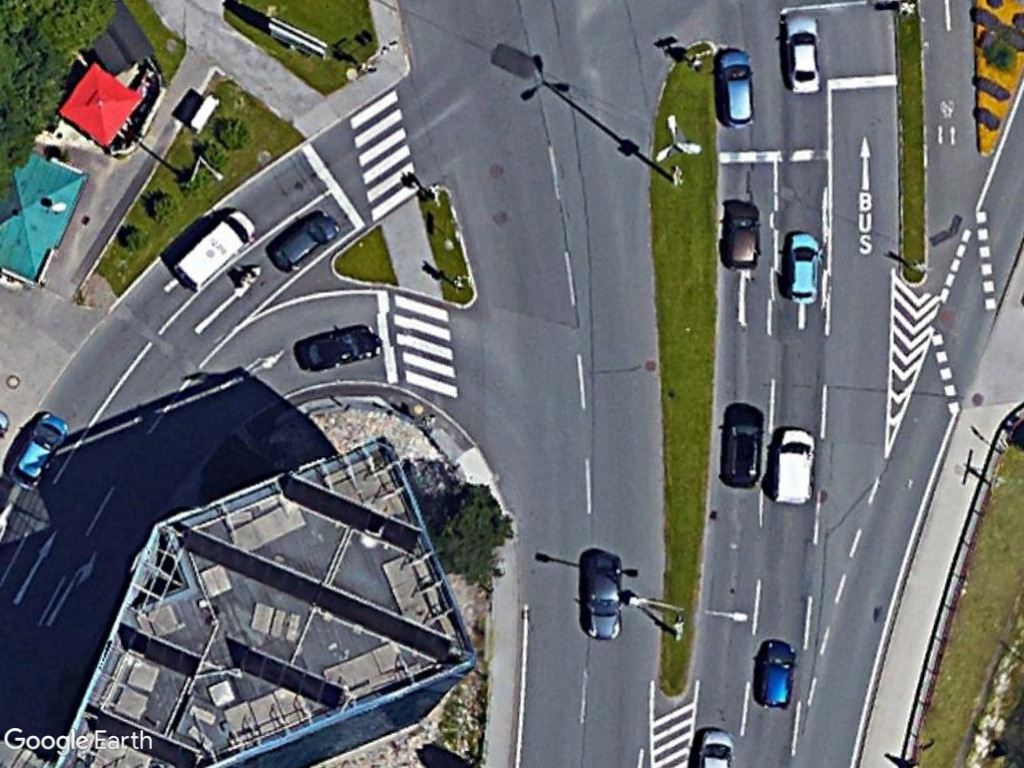car: (5, 405, 71, 494), (265, 207, 344, 275), (579, 544, 629, 648), (718, 398, 766, 494), (778, 5, 826, 100), (715, 43, 761, 134), (753, 636, 801, 712), (723, 195, 765, 274), (784, 224, 823, 308)
van: (170, 201, 261, 293), (769, 419, 823, 511)
